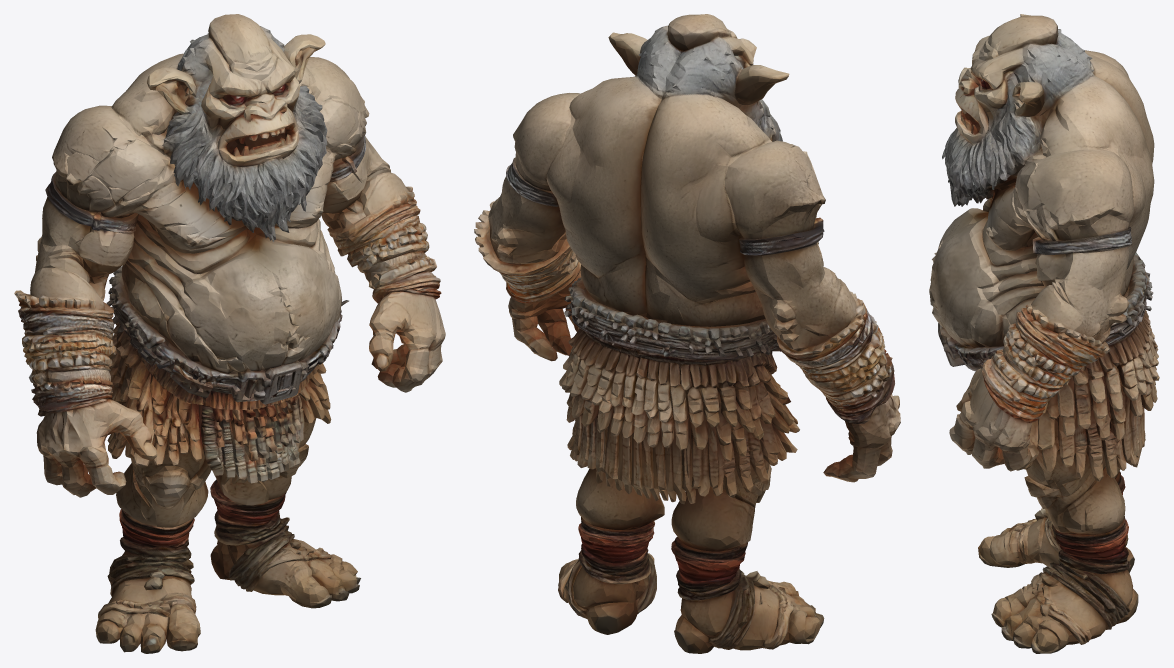
Rendered from humbaba_rodin_source.glb.
3 renders of one model, left to right at view 1: azimuth 30°, elevation 25°; view 2: azimuth 150°, elevation 25°; view 3: azimuth 270°, elevation 25°, orthographic. The views are drawn at different scales.
Parts seen in each view (by area): view 1: model; view 2: model; view 3: model.
Boxes of the visible parts, x1,y1,x2,y2 form: model: [14, 14, 445, 653]; model: [474, 14, 900, 653]; model: [929, 14, 1159, 653].
Bounding box in the file's own units: 1.3 × 1.9 × 0.684.
Materials: 1 (1 with a texture image).
